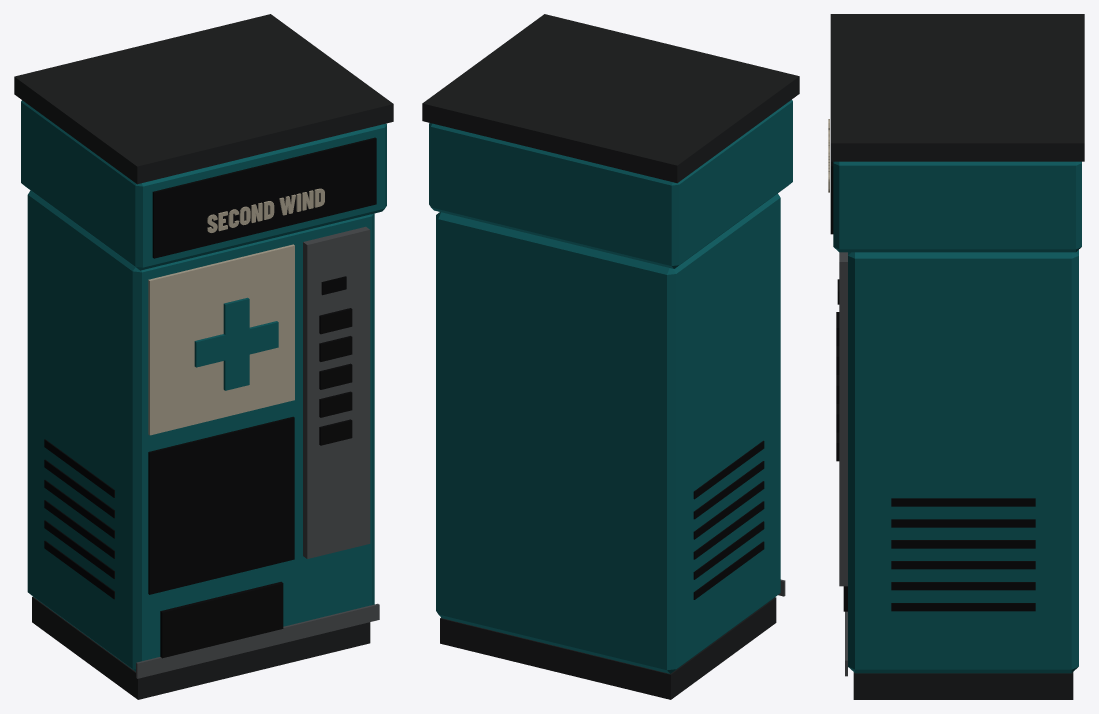
File: drink_machine_second_wind.gltf
3 views of the same model, side by side, from view 1: azimuth 30°, elevation 25°; view 2: azimuth 150°, elevation 25°; view 3: azimuth 270°, elevation 25° (orthographic). The views are drawn at different scales.
Parts seen in each view (by area): view 1: drink_machine_second_wind; view 2: drink_machine_second_wind; view 3: drink_machine_second_wind.
Part boxes in pixels (x1=…): drink_machine_second_wind: x1=14, y1=14, x2=393, y2=699; drink_machine_second_wind: x1=422, y1=14, x2=799, y2=699; drink_machine_second_wind: x1=828, y1=14, x2=1084, y2=699.
Size of the model in its own units: 1.06 by 2.15 by 0.888.
